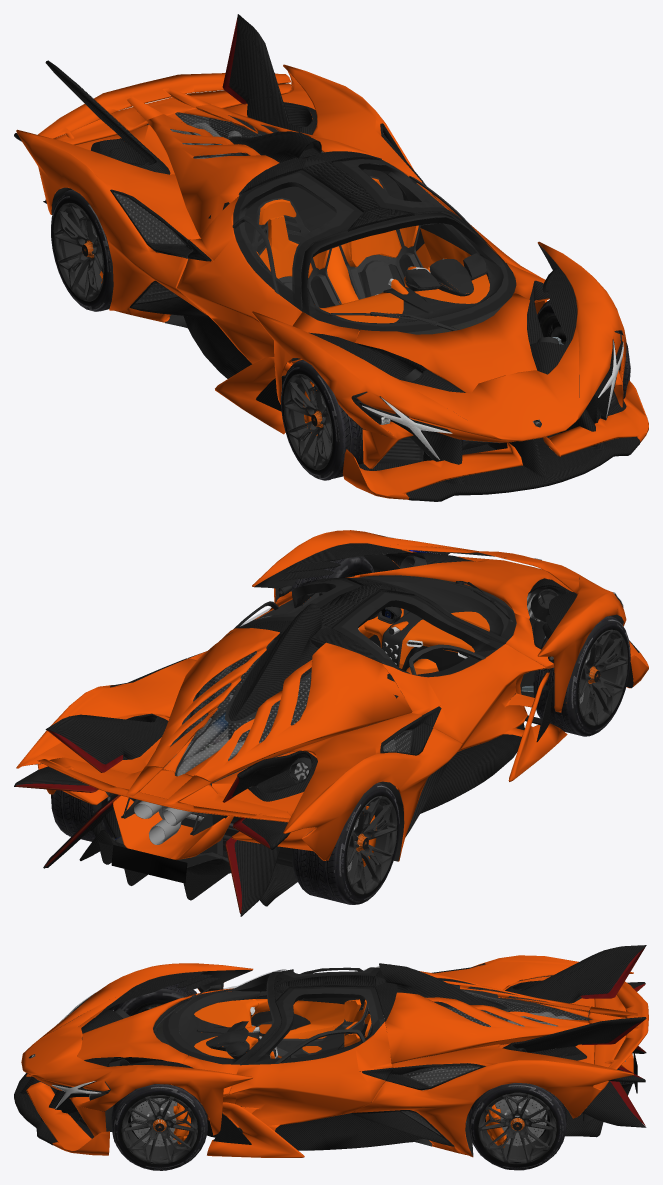
Rendered from 2022-apollo-project-evo-fd92ce.glb.
3 renders of one model, top to bottom at view 1: azimuth 30°, elevation 25°; view 2: azimuth 150°, elevation 25°; view 3: azimuth 270°, elevation 25°, orthographic. The views are drawn at different scales.
Visible parts, largest first — view 1: body, wheel-front-right, wheel-back-right; view 2: body, wheel-back-right, wheel-front-right; view 3: body, wheel-back-left, wheel-front-left.
Part boxes in pixels (x1=…): body: x1=14, y1=14, x2=648, y2=501; wheel-front-right: x1=281, y1=360, x2=344, y2=480; wheel-back-right: x1=51, y1=189, x2=113, y2=311; body: x1=14, y1=530, x2=648, y2=916; wheel-back-right: x1=334, y1=783, x2=399, y2=904; wheel-front-right: x1=566, y1=616, x2=630, y2=736; body: x1=14, y1=945, x2=648, y2=1170; wheel-back-left: x1=469, y1=1083, x2=566, y2=1170; wheel-front-left: x1=112, y1=1084, x2=207, y2=1170.
Size of the model in its own units: 2.01 by 1.28 by 4.79.
Materials: 11 (6 with a texture image).
